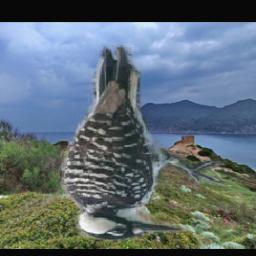Woodpecker: (55, 46, 230, 242)
